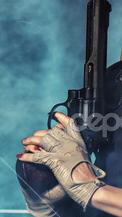gun: (1, 1, 122, 217)
